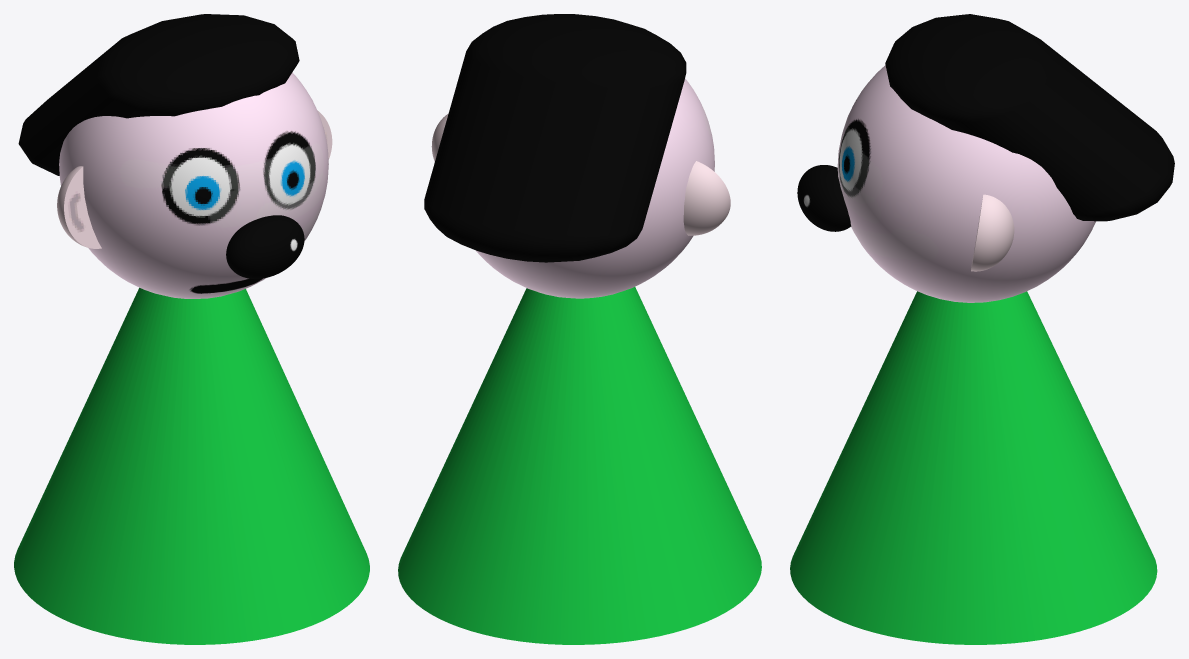
File: Chaps.fbx
3 renders of one model, left to right at view 1: azimuth 30°, elevation 25°; view 2: azimuth 150°, elevation 25°; view 3: azimuth 270°, elevation 25°, orthographic.
Parts seen in each view (by area): view 1: root (×5); view 2: root (×4); view 3: root (×5).
Part boxes in pixels (x1,y1,x2,y2): root (×5): (14,14,369,644); root (×4): (398,14,761,644); root (×5): (790,14,1174,644).
Bounding box in the file's own units: 0.1234 × 0.2042 × 0.1336.
6 materials, 5 textured.
